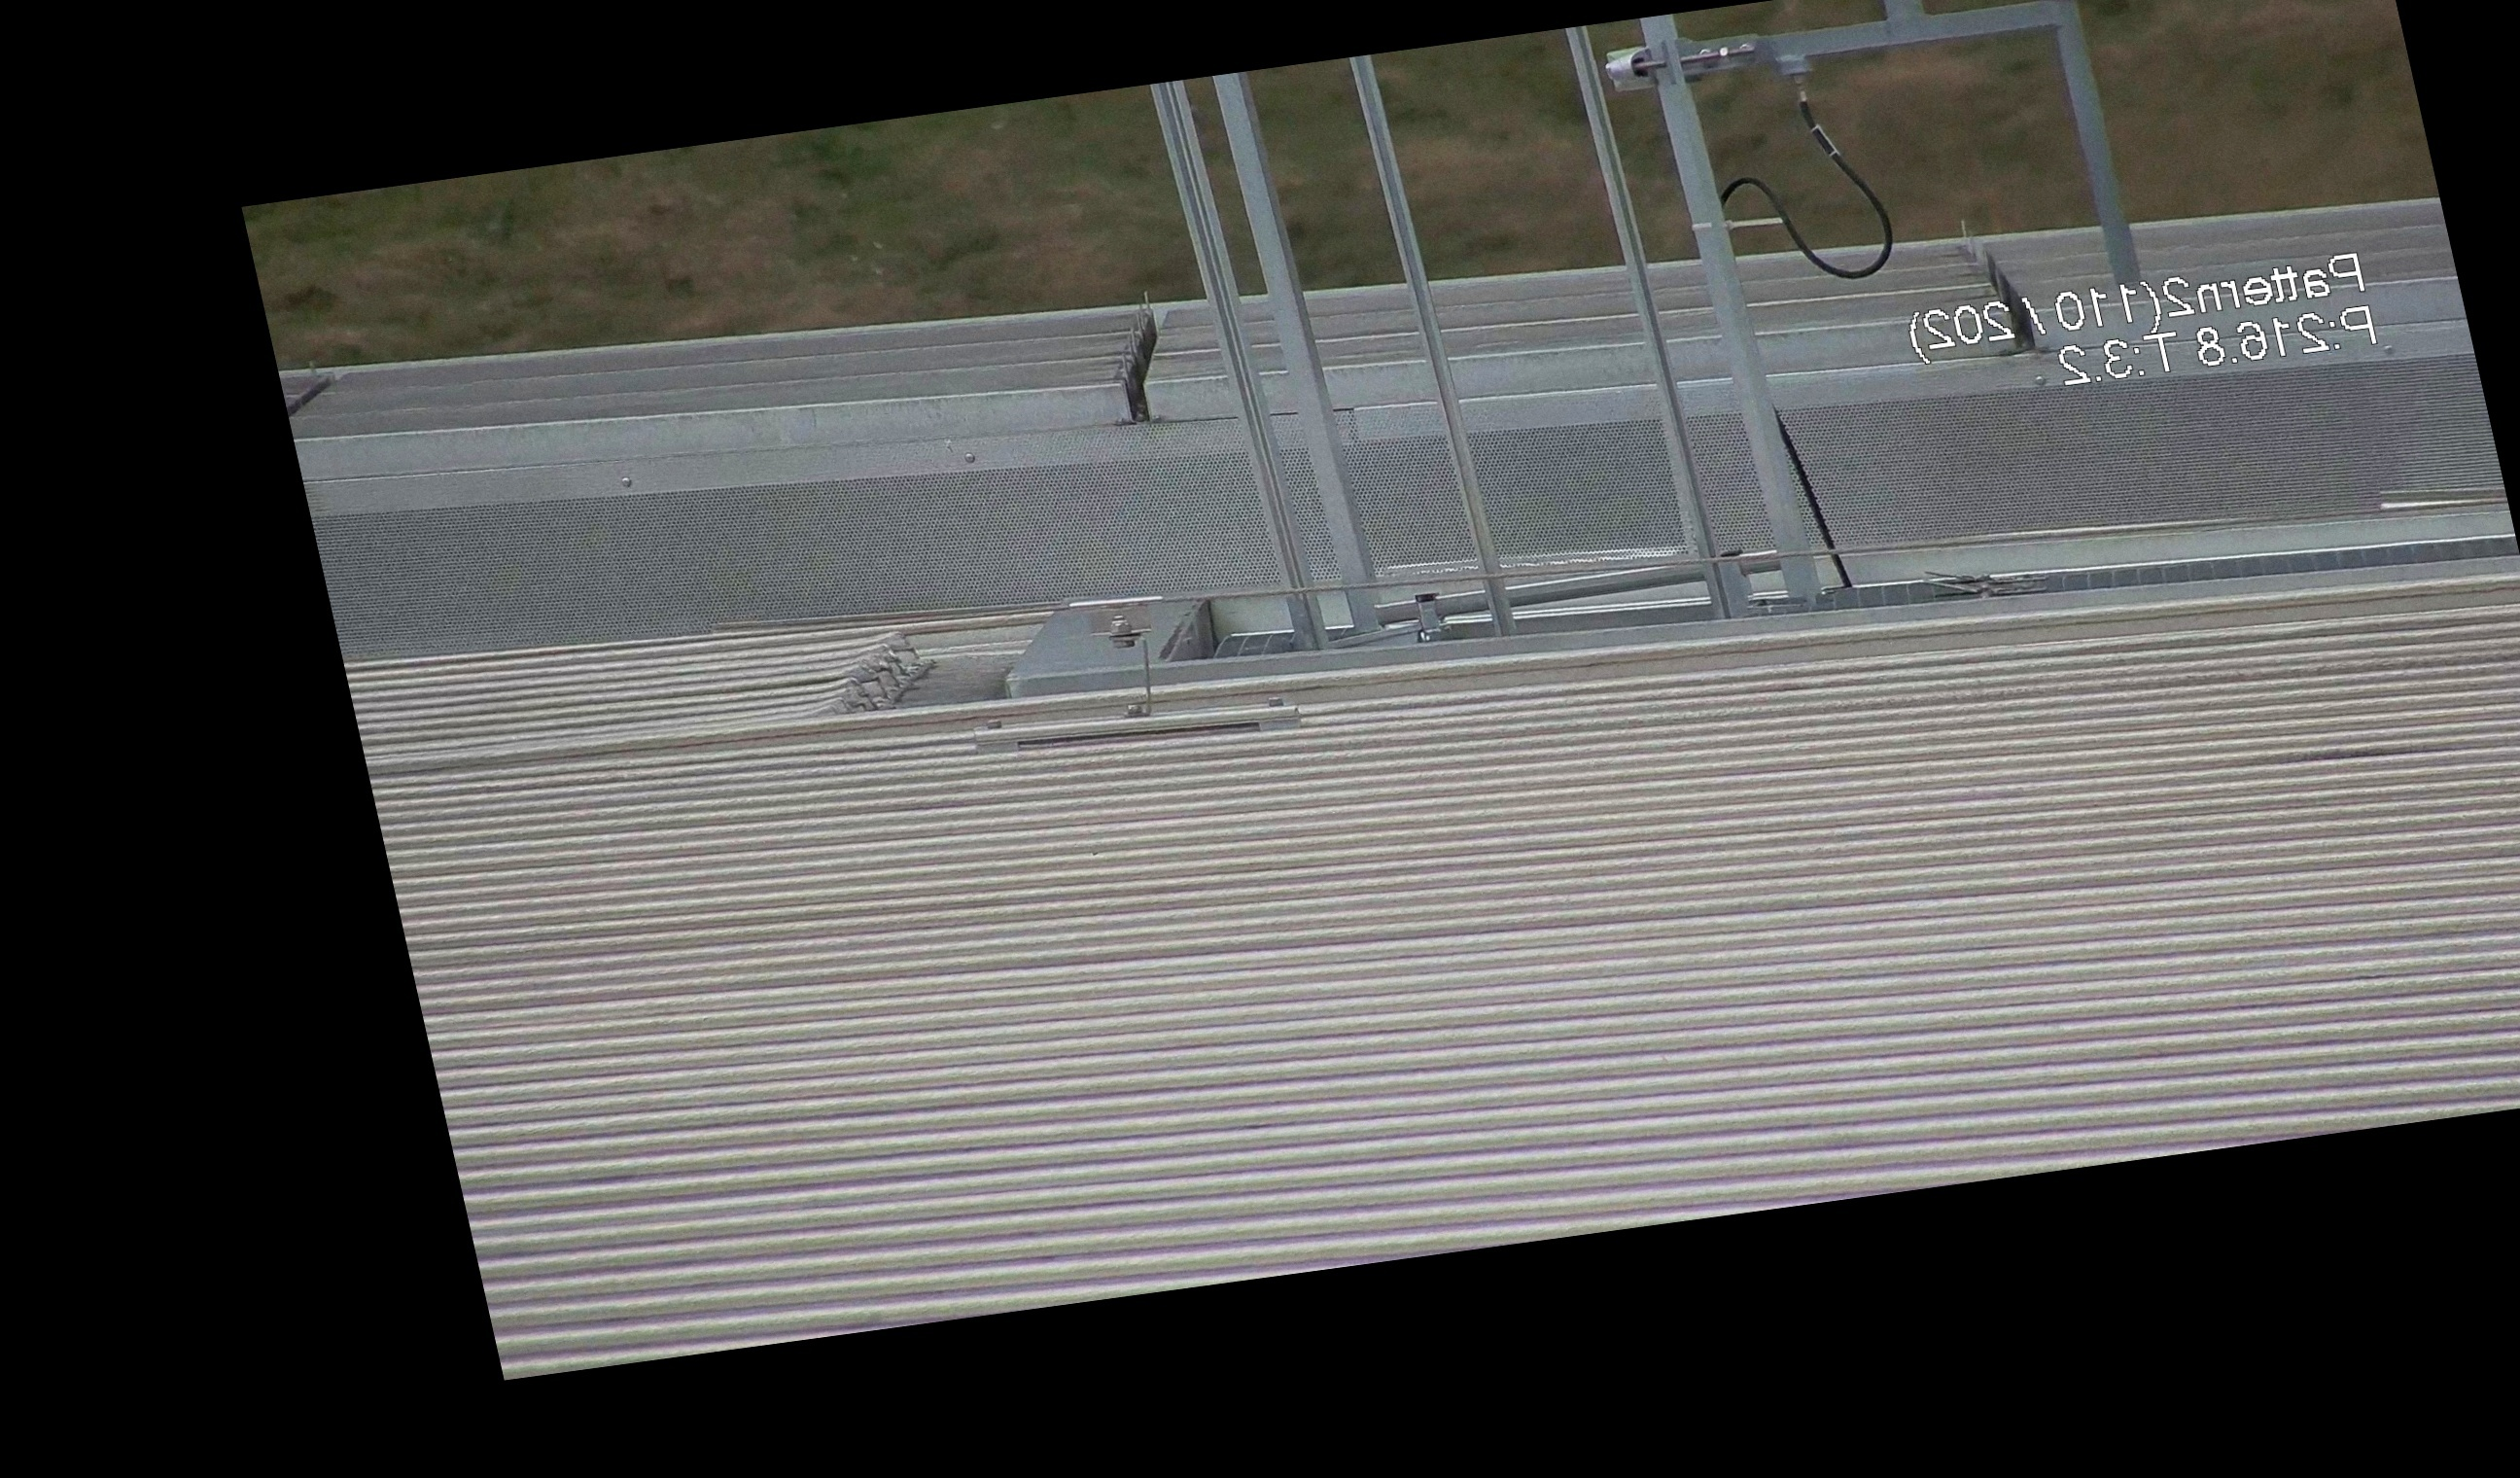Other: (1085, 283, 1191, 424)
